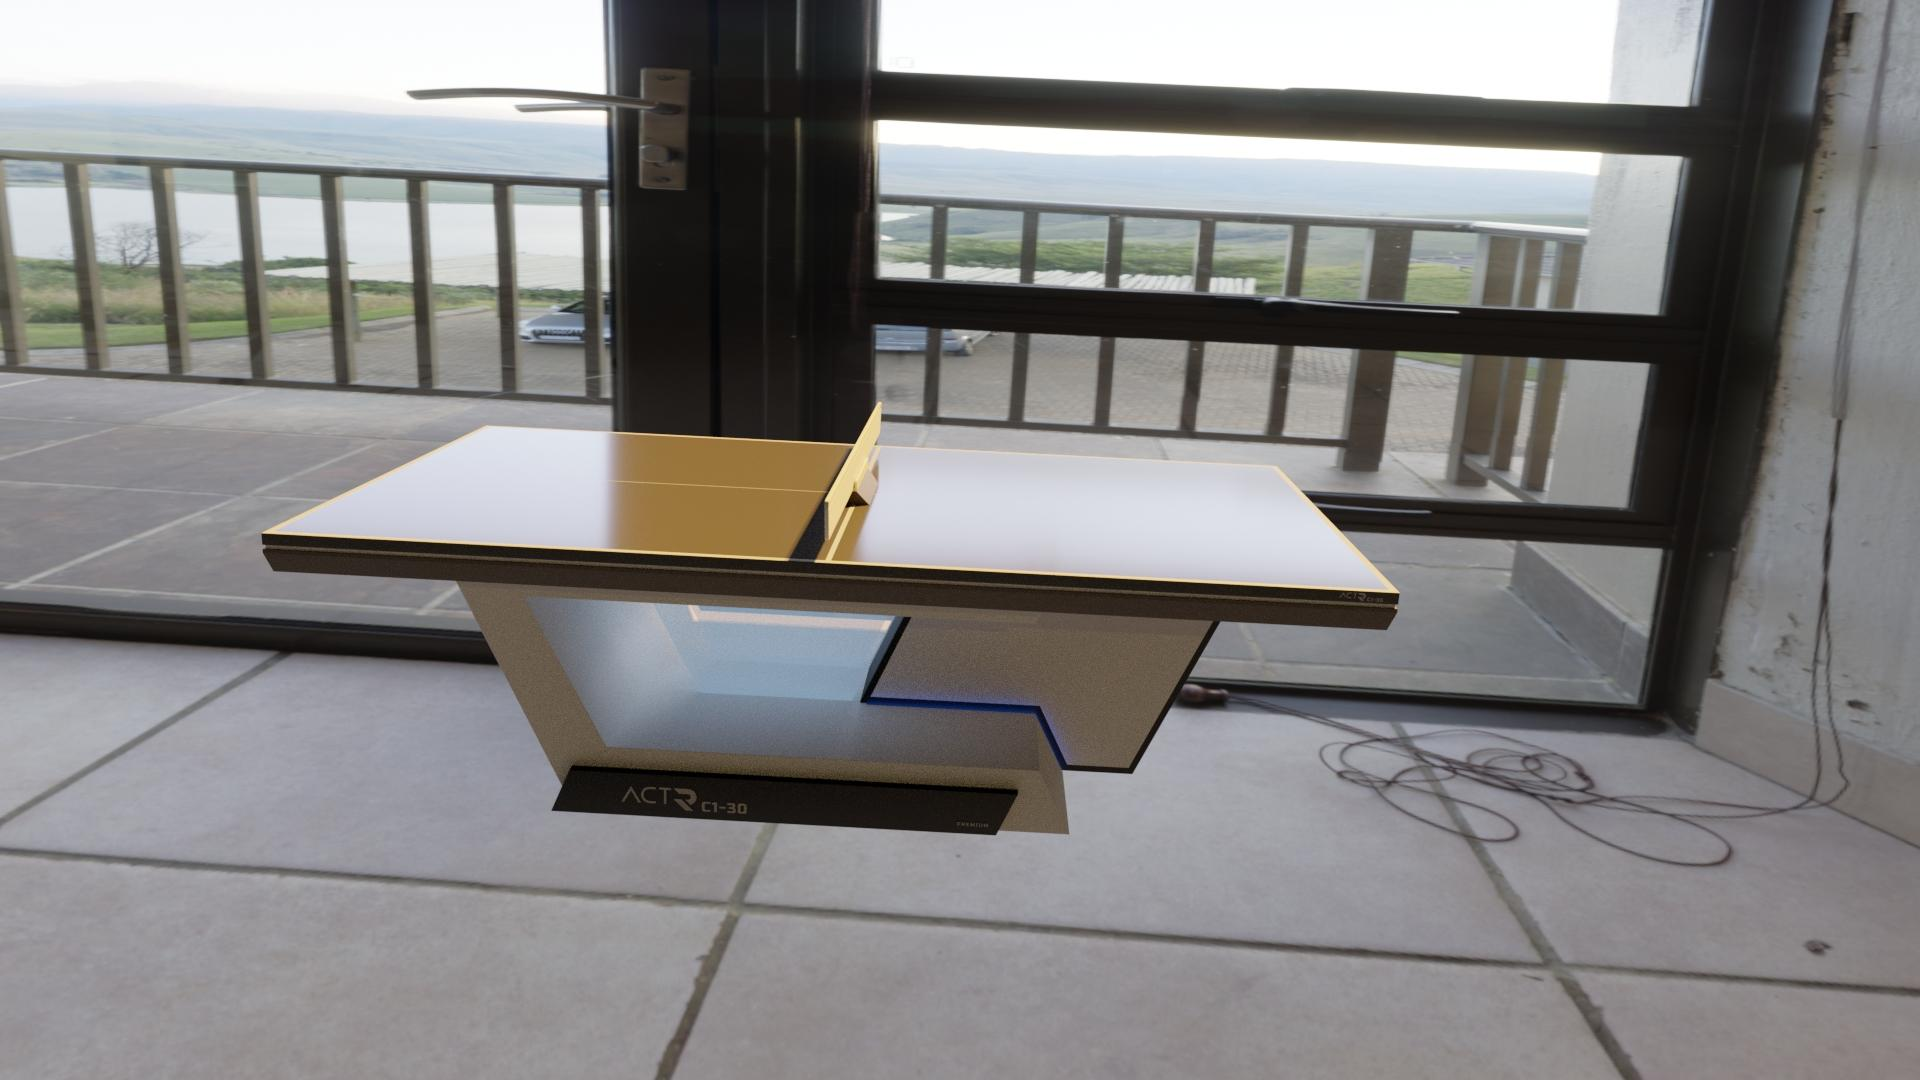table: (273, 427, 1390, 589)
